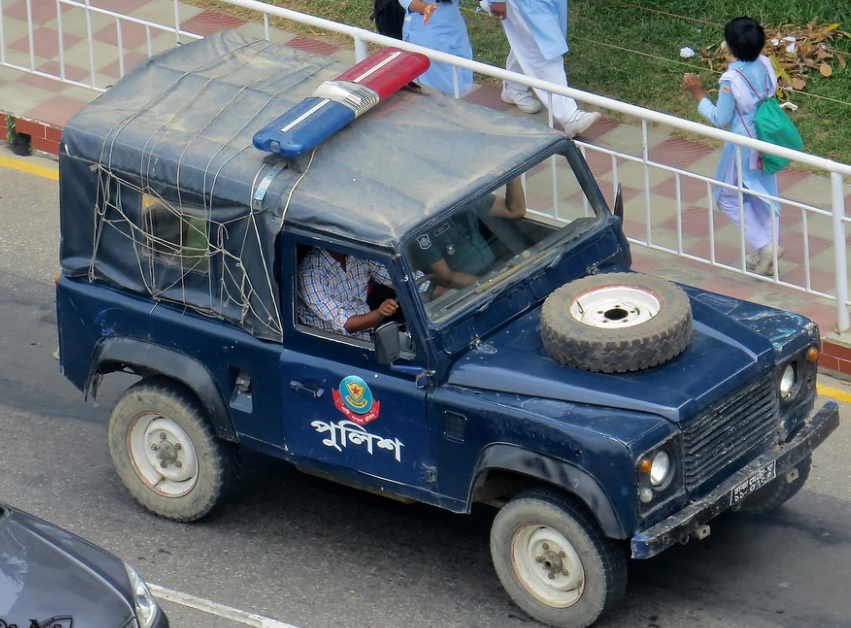Police cars: (40, 21, 846, 628)
